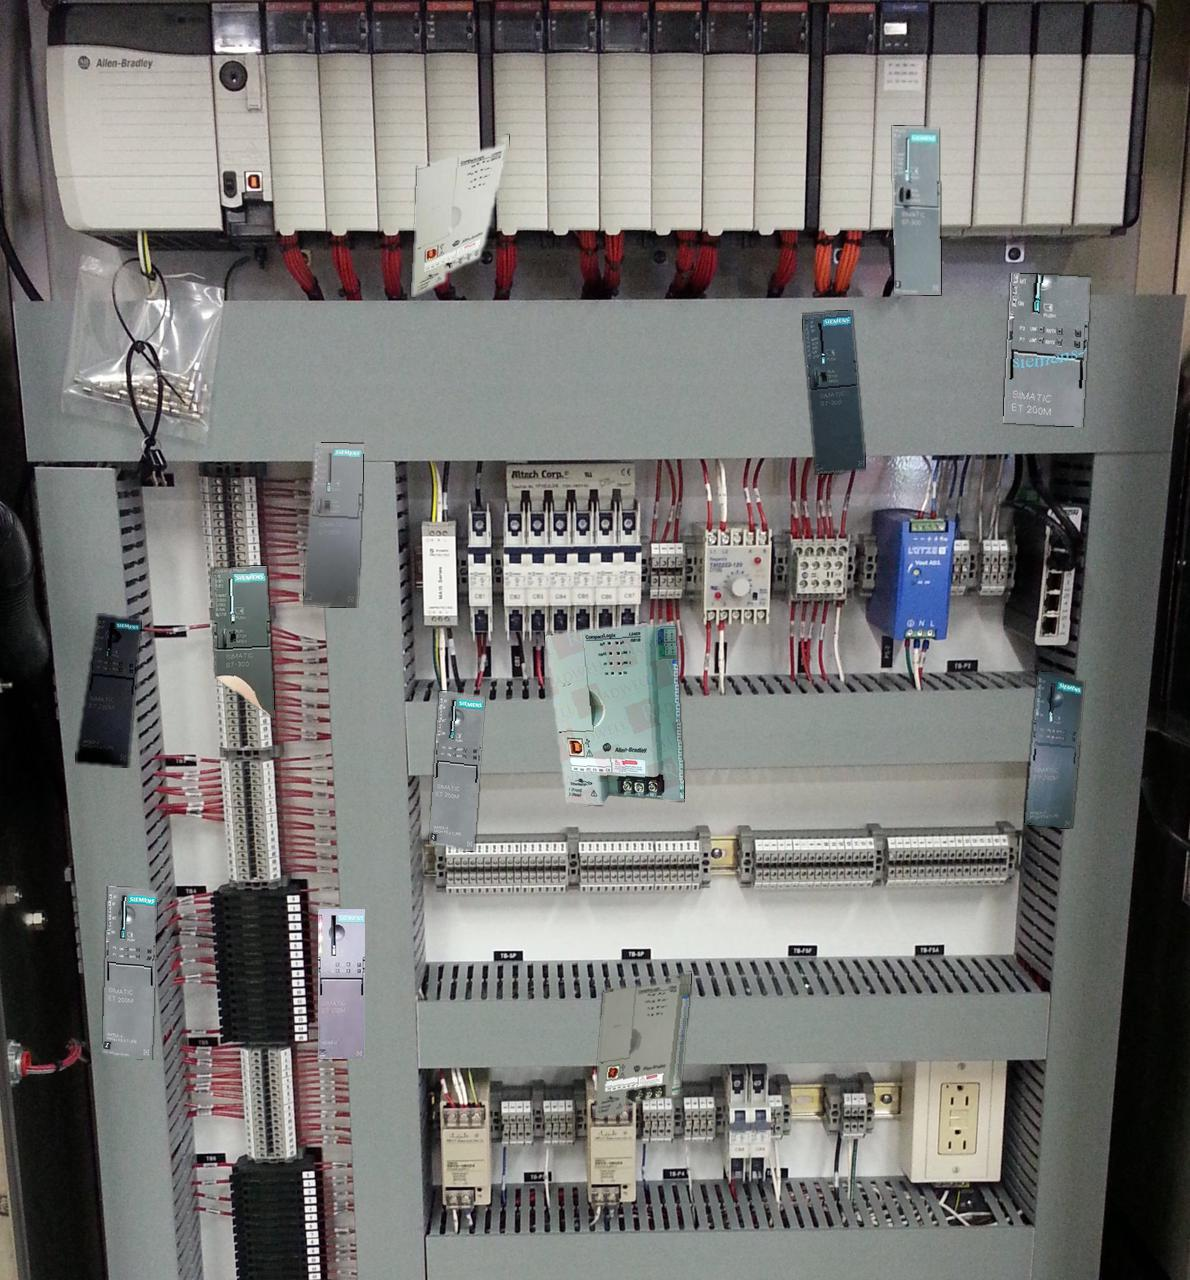AllenBradley: (545, 623, 684, 804), (412, 135, 508, 296), (595, 971, 691, 1117)
Siemens: (802, 310, 865, 474), (303, 442, 363, 607), (211, 566, 274, 717), (892, 126, 939, 294)
